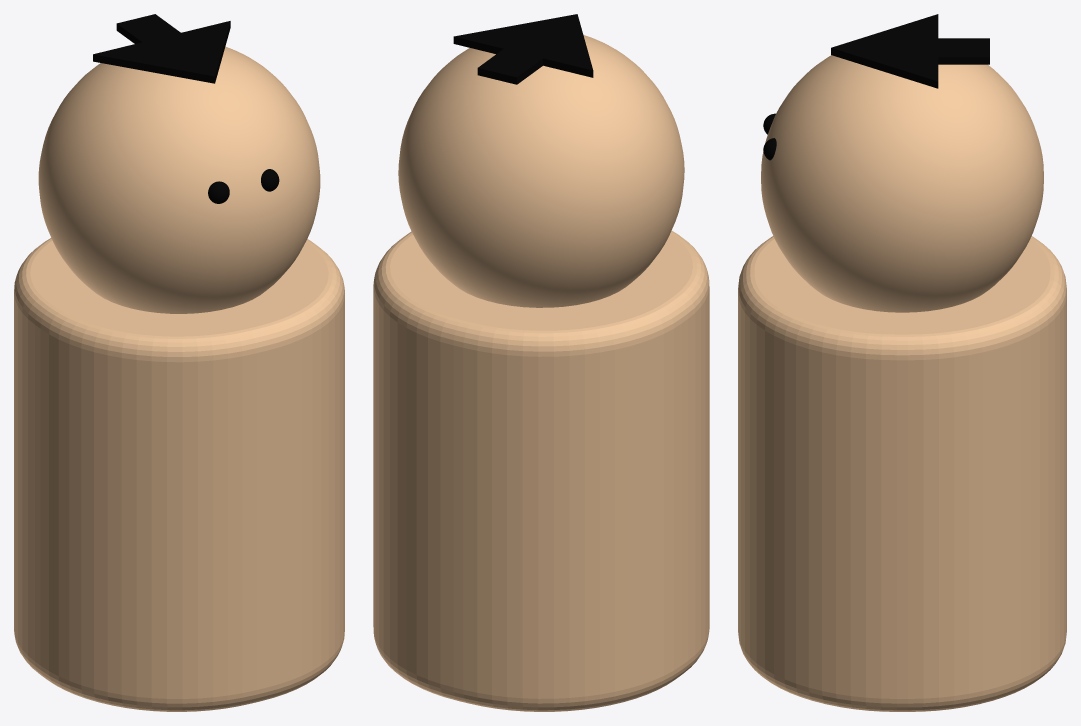
File: 4newb.obj
The picture shows the model from 3 angles, left to right: view 1: azimuth 30°, elevation 25°; view 2: azimuth 150°, elevation 25°; view 3: azimuth 270°, elevation 25°; orthographic projection.
Parts seen in each view (by area): view 1: Cube.004_Cube.002, Cube.004_Cube.001; view 2: Cube.004_Cube.002, Cube.004_Cube.001; view 3: Cube.004_Cube.002, Cube.004_Cube.001.
Boxes of the visible parts, box(x1,y1,x2,y2) form: Cube.004_Cube.002: box(14, 46, 344, 711); Cube.004_Cube.001: box(93, 14, 279, 203); Cube.004_Cube.002: box(373, 35, 709, 711); Cube.004_Cube.001: box(453, 14, 593, 84); Cube.004_Cube.002: box(738, 55, 1066, 711); Cube.004_Cube.001: box(763, 14, 989, 160).
Bounding box in the file's own units: 0.2392 × 0.4819 × 0.2392.
